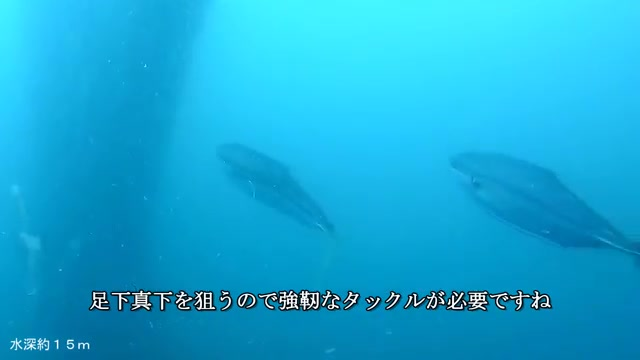smallfish: (448, 146, 637, 258)
